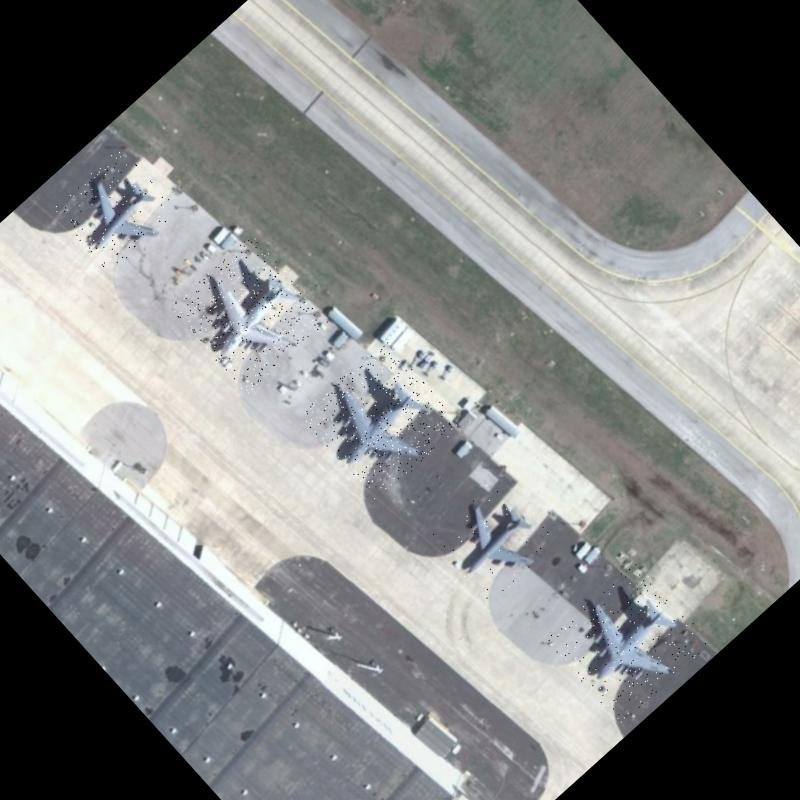A14: (428, 473, 560, 604), (51, 145, 179, 273)
A3: (545, 558, 711, 724), (299, 338, 462, 502), (168, 233, 330, 394)
